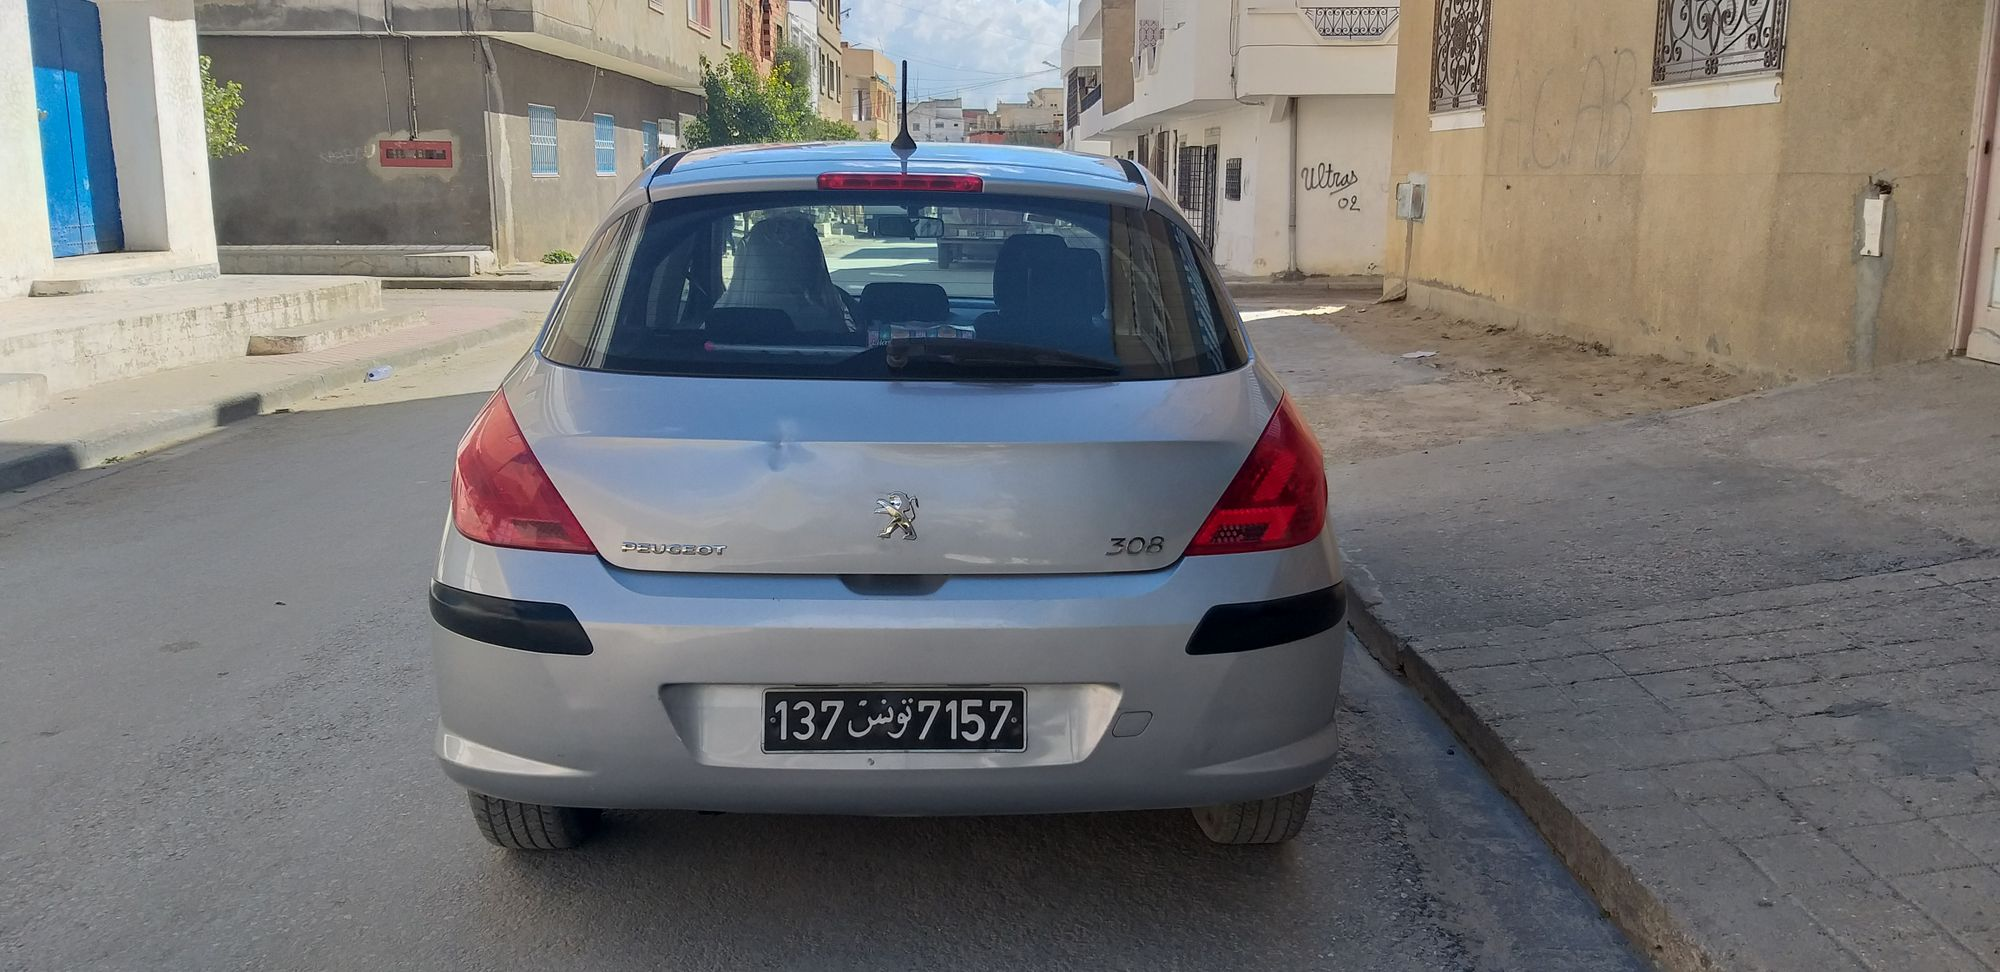LP: (760, 687, 1029, 754)
